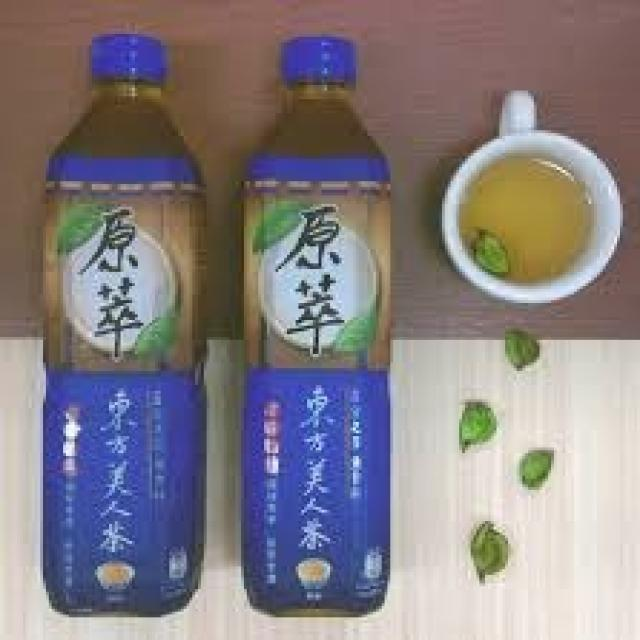YuanTsui_MeiRen: (34, 22, 218, 620), (235, 27, 405, 622)
